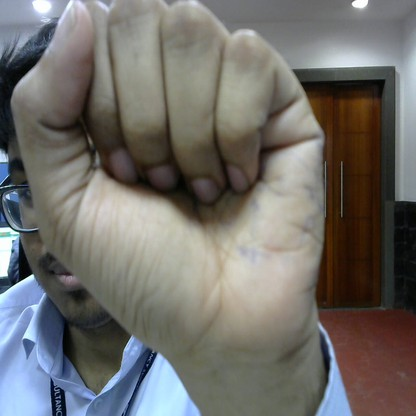a: (10, 2, 350, 377)
